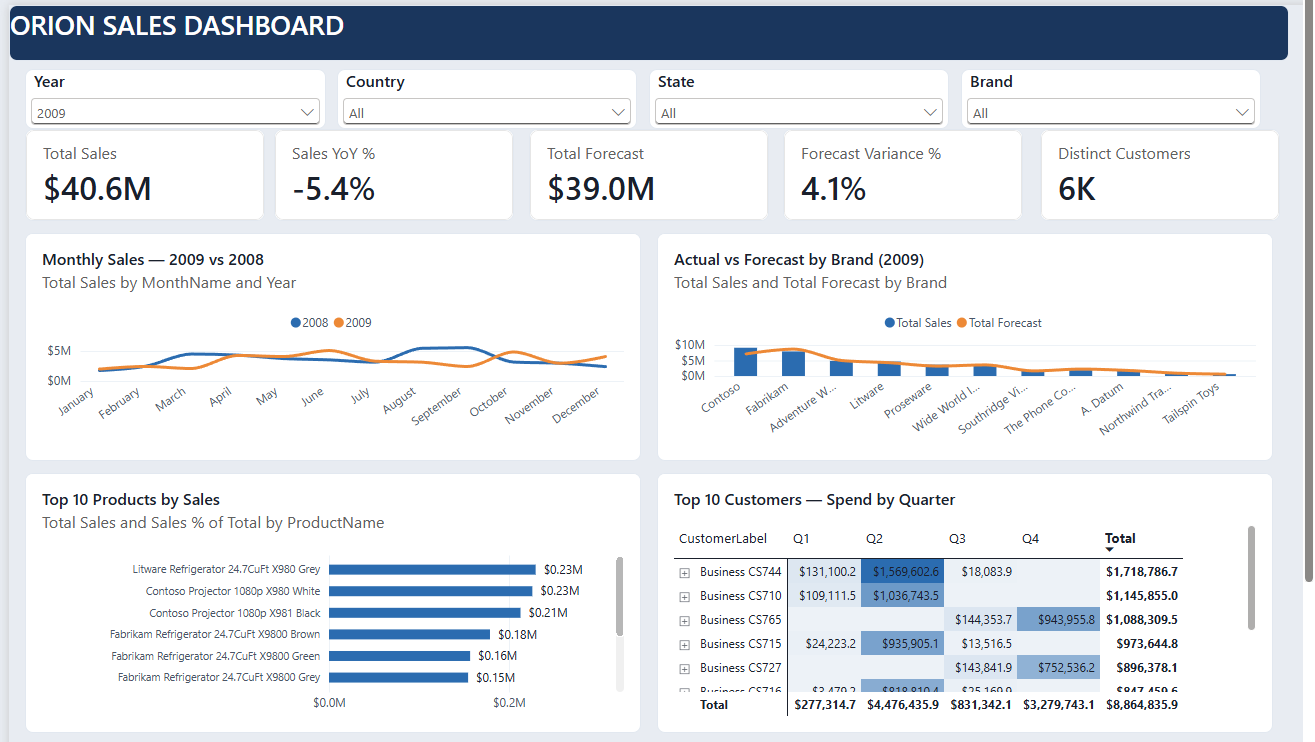

The dashboard page shown, as its layout file describes it:
{"tool":"powerbi","page":{"name":"Sales Overview","canvas":[1920,1080],"ordinal":0},"visuals":[{"type":"shape","title":"ORION SALES DASHBOARD","box":[0,0,1280,56],"z":0},{"type":"slicer","title":"Year","fields":{"Values":["dim_year.Year"]},"box":[16,64,301,60],"z":1000},{"type":"slicer","fields":{"Values":["dim_country.CountryRegion"]},"box":[328,64,300,60],"z":2000},{"type":"slicer","fields":{"Values":["dim_geography.State"]},"box":[640,64,300,60],"z":3000},{"type":"slicer","fields":{"Values":["dim_brand.Brand"]},"box":[952,64,300,60],"z":4000},{"type":"cardVisual","fields":{"Data":["_Measures .Total Sales"]},"box":[16,124,240,92],"z":5000},{"type":"cardVisual","fields":{"Data":["_Measures .Distinct Customers"]},"box":[1030.8,123.7,240,92],"z":6000},{"type":"cardVisual","fields":{"Data":["_Measures .Total Forecast"]},"box":[520,123.7,240,92],"z":7000},{"type":"cardVisual","fields":{"Data":["_Measures .Forecast Variance %"]},"box":[774.1,123.7,240,92],"z":8000},{"type":"cardVisual","fields":{"Data":["_Measures .Sales YoY %"]},"box":[264.7,123.7,240,92],"z":9000},{"type":"lineChart","title":"Monthly Sales — 2009 vs 2008","fields":{"Category":["dim_date.MonthName"],"Series":["dim_year.Year"],"Y":["_Measures .Total Sales"]},"box":[16,228,616,228],"z":10000},{"type":"lineClusteredColumnComboChart","title":"Actual vs Forecast by Brand (2009)","fields":{"Category":["dim_brand.Brand"],"Y":["_Measures .Total Sales"],"Y2":["_Measures .Total Forecast"]},"box":[648,228,616,228],"z":11000},{"type":"clusteredBarChart","title":"Top 10 Products by Sales","fields":{"Category":["dim_product.ProductName"],"Y":["_Measures .Total Sales"]},"box":[16,468,616,260],"z":12000},{"type":"pivotTable","title":"Top 10 Customers — Spend by Quarter","fields":{"Columns":["dim_date.QuarterName"],"Rows":["dim_customer.CustomerLabel","dim_product.Category"],"Values":["_Measures .Total Sales"]},"box":[648,468,616,260],"z":13000}]}

Visuals, with their boxes in screenshot pixels (x1, y1, x2, y2), scaled from the page's 1920x1080 canvas onto the 1315x742 screenshot:
"ORION SALES DASHBOARD" shape: bbox=[0, 0, 877, 38]
"Year" slicer: bbox=[11, 44, 217, 85]
slicer - dim_country.CountryRegion: bbox=[225, 44, 430, 85]
slicer - dim_geography.State: bbox=[438, 44, 644, 85]
slicer - dim_brand.Brand: bbox=[652, 44, 857, 85]
cardVisual - _Measures .Total Sales: bbox=[11, 85, 175, 148]
cardVisual - _Measures .Distinct Customers: bbox=[706, 85, 870, 148]
cardVisual - _Measures .Total Forecast: bbox=[356, 85, 521, 148]
cardVisual - _Measures .Forecast Variance %: bbox=[530, 85, 695, 148]
cardVisual - _Measures .Sales YoY %: bbox=[181, 85, 346, 148]
"Monthly Sales — 2009 vs 2008" lineChart: bbox=[11, 157, 433, 313]
"Actual vs Forecast by Brand (2009)" lineClusteredColumnComboChart: bbox=[444, 157, 866, 313]
"Top 10 Products by Sales" clusteredBarChart: bbox=[11, 322, 433, 500]
"Top 10 Customers — Spend by Quarter" pivotTable: bbox=[444, 322, 866, 500]
